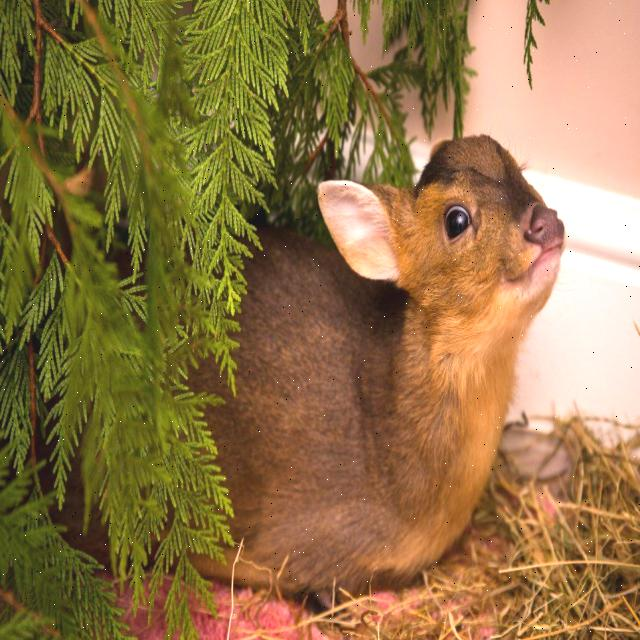deer: (35, 72, 577, 578)
